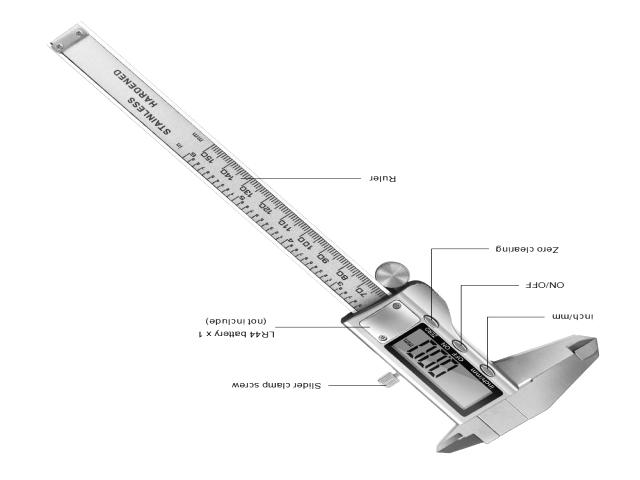Calipers: (50, 24, 598, 453)
